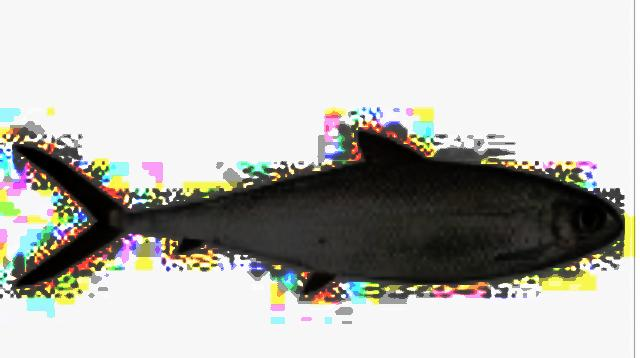Healthy Fish: (14, 132, 630, 295)
